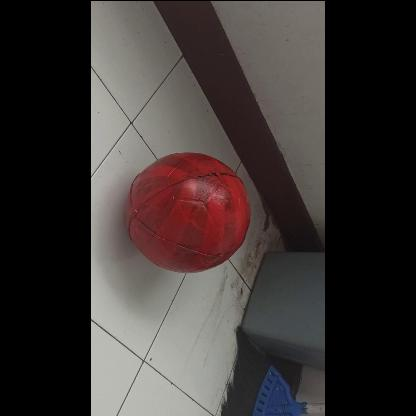red_ball: (126, 152, 250, 276)
